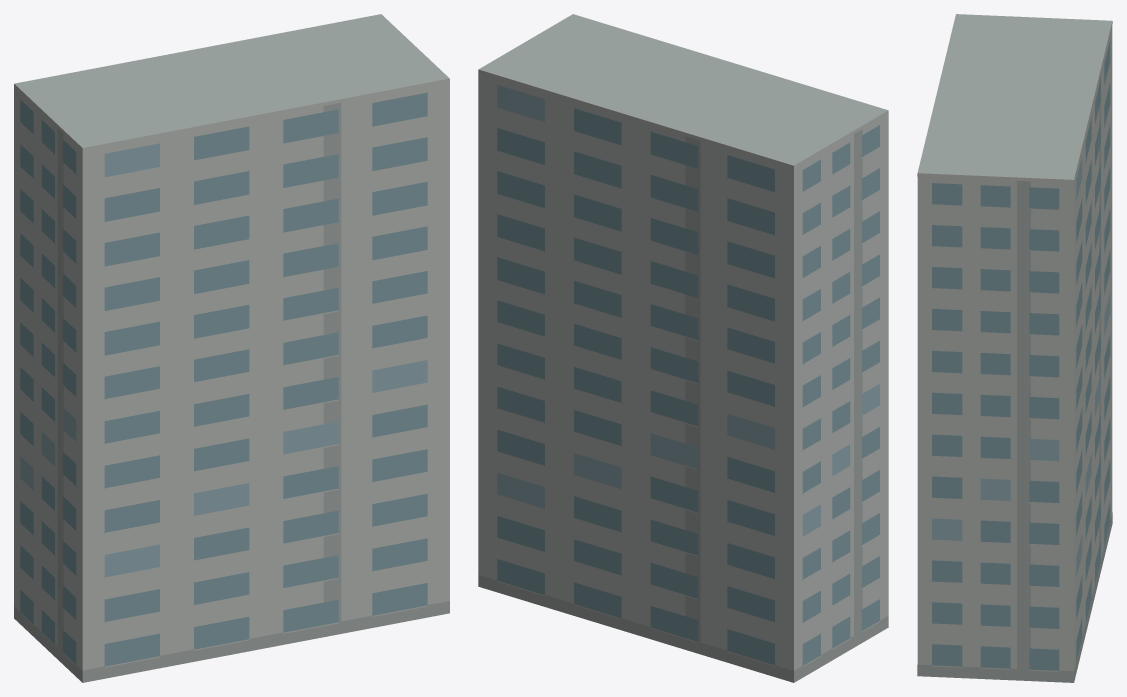
Rendered from residential-023d4c5d-b795-42f3-984a-6605873413b0.glb.
The picture shows the model from 3 angles, left to right: view 1: azimuth 30°, elevation 25°; view 2: azimuth 150°, elevation 25°; view 3: azimuth 270°, elevation 25°; orthographic projection. The views are drawn at different scales.
Visible parts, largest first — view 1: residential-023d4c5d-b795-42f3-984a-6605873413b0.tmp; view 2: residential-023d4c5d-b795-42f3-984a-6605873413b0.tmp; view 3: residential-023d4c5d-b795-42f3-984a-6605873413b0.tmp.
Boxes of the visible parts, box(x1,y1,x2,y2) form: residential-023d4c5d-b795-42f3-984a-6605873413b0.tmp: box(14, 14, 449, 682); residential-023d4c5d-b795-42f3-984a-6605873413b0.tmp: box(478, 14, 888, 682); residential-023d4c5d-b795-42f3-984a-6605873413b0.tmp: box(917, 14, 1112, 682).
Size of the model in its own units: 25.89 by 36.6 by 12.87.
